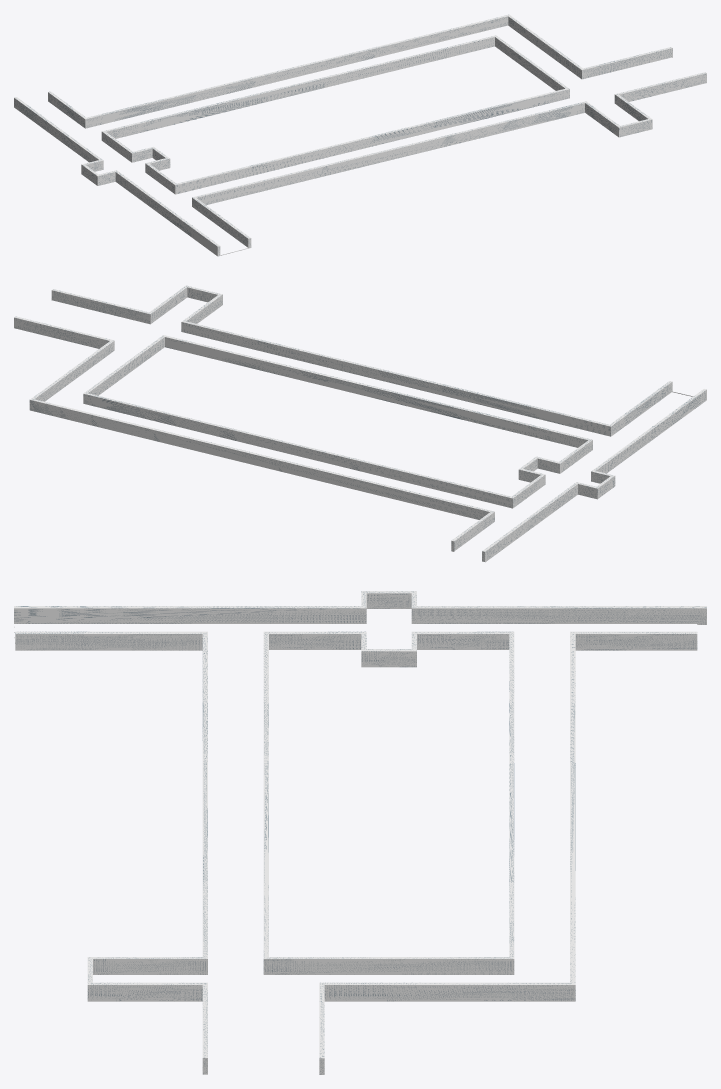
The model's file is levine_track.dae.
The picture shows the model from 3 angles, top to bottom: view 1: azimuth 30°, elevation 25°; view 2: azimuth 150°, elevation 25°; view 3: azimuth 270°, elevation 25°; orthographic projection. The views are drawn at different scales.
Parts seen in each view (by area): view 1: SketchUp (×5); view 2: SketchUp (×5); view 3: SketchUp (×5).
Boxes of the visible parts, x1,y1,x2,y2 form: SketchUp (×5): (14,14,706,256); SketchUp (×5): (14,285,706,562); SketchUp (×5): (14,591,706,1074).
Size of the model in its own units: 1230 by 771 by 20.47.
